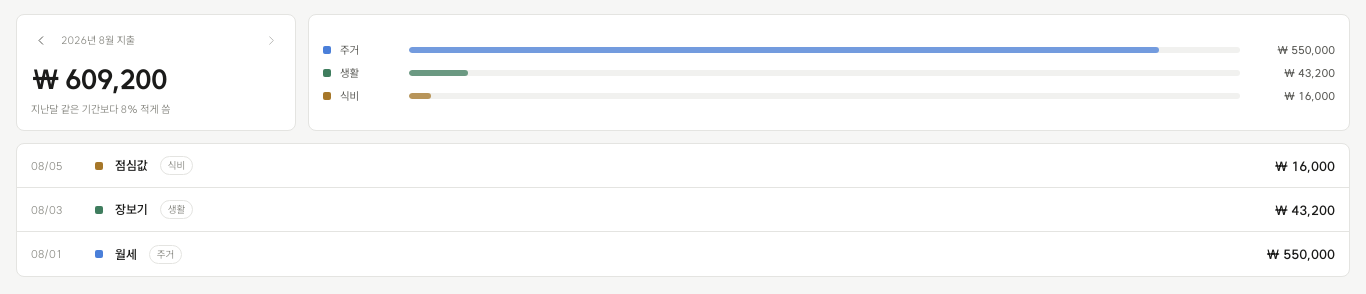
Test: LedgerPage › navigates to the previous/next month and shows that month's list
Expected: the text "점심값" is shown, [115,158,148,173]
Click the button named "이전 월". click: (41, 40)
box: [27,26,55,54]
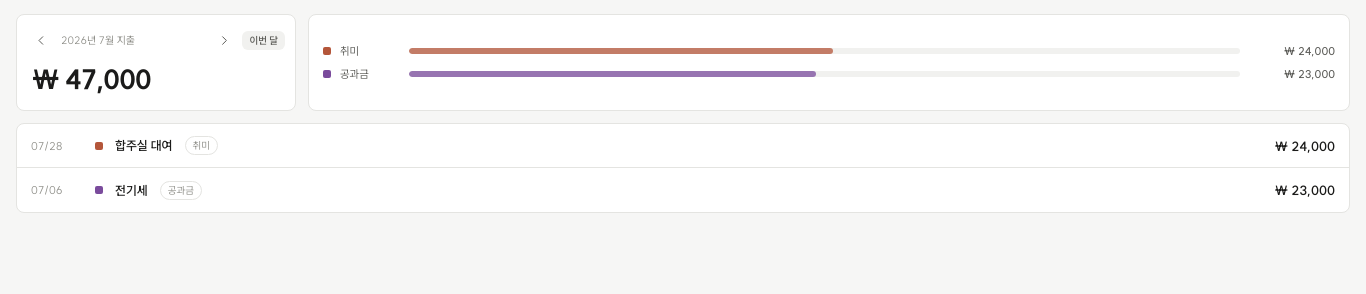
Expected: the text "2026년 7월 지출" is shown, [61,34,135,46]
Expected: the text "전기세" is shown, [115,182,148,198]
Expected: the button "점심값" is gone
Click the button "이번 달". click: (264, 40)
box: [242,30,285,50]
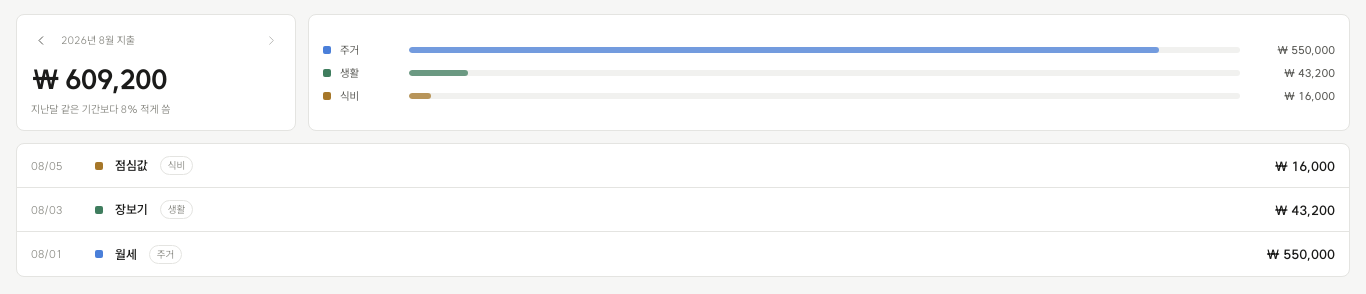
Expected: the text "2026년 8월 지출" is shown, [61,34,135,46]
Expected: the text "점심값" is shown, [115,158,148,173]
Expected: the button named "다음 월" is disabled, [257,26,285,54]
